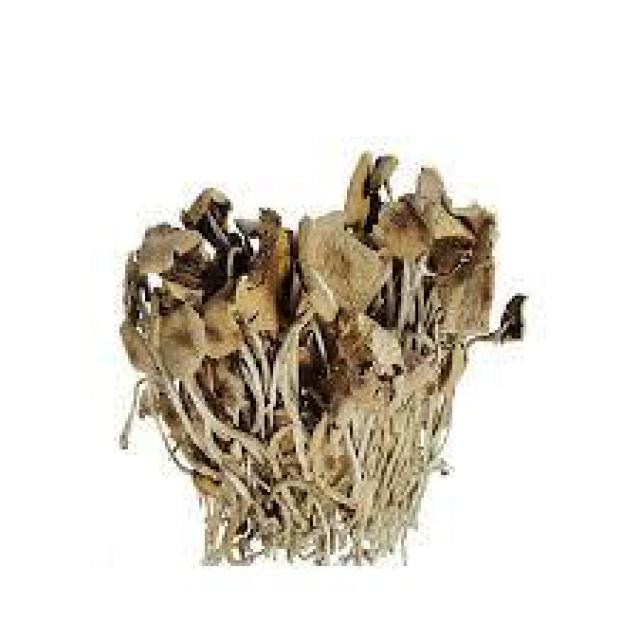Agrocybe aegerita: (113, 153, 524, 569)
